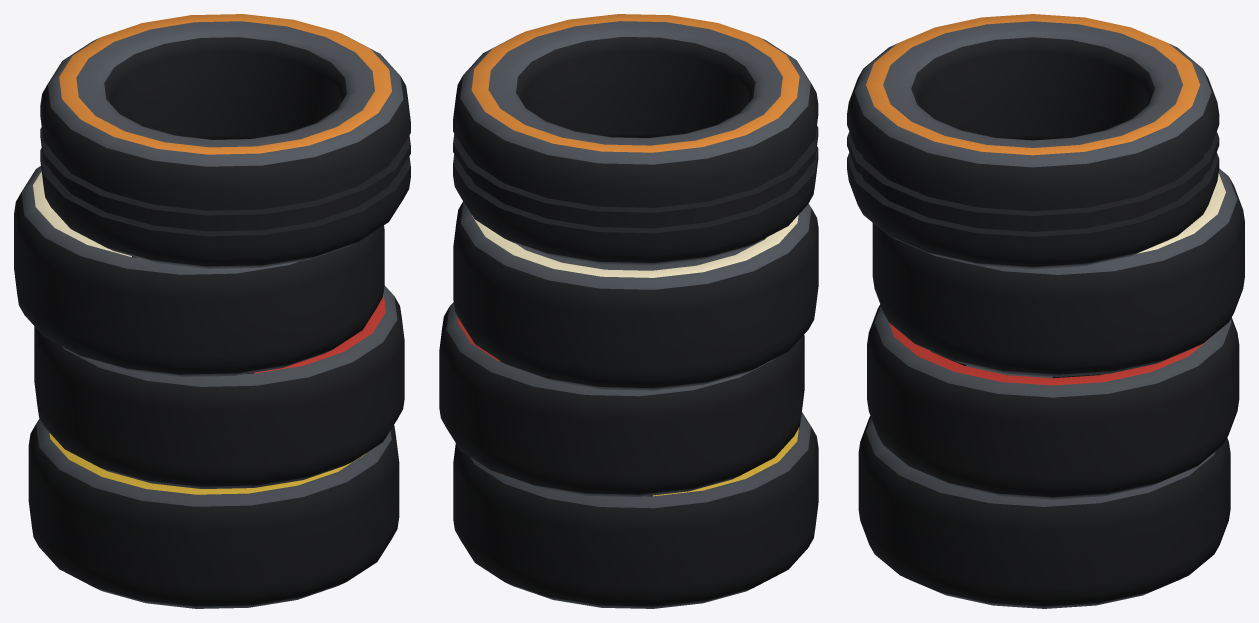
The model's file is Tire_Stack_01.glb.
The picture shows the model from 3 angles, left to right: view 1: azimuth 30°, elevation 25°; view 2: azimuth 150°, elevation 25°; view 3: azimuth 270°, elevation 25°; orthographic projection.
Visible parts, largest first — view 1: SM_Tire_Stack_01; view 2: SM_Tire_Stack_01; view 3: SM_Tire_Stack_01.
Boxes of the visible parts, x1,y1,x2,y2 form: SM_Tire_Stack_01: [14, 14, 410, 608]; SM_Tire_Stack_01: [439, 14, 818, 608]; SM_Tire_Stack_01: [847, 14, 1244, 608].
Bounding box in the file's own units: 0.685 × 0.88 × 0.695.
1 material, 1 textured.
